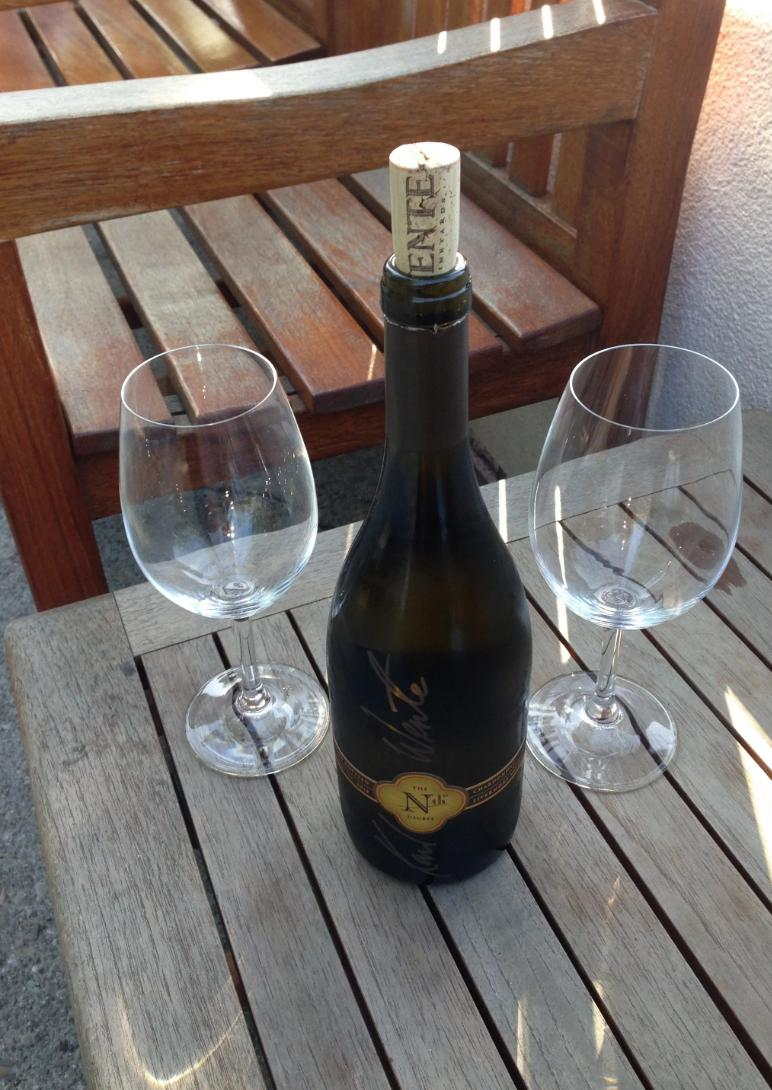wine bottle: (324, 141, 534, 884)
wine label: (334, 744, 527, 833)
